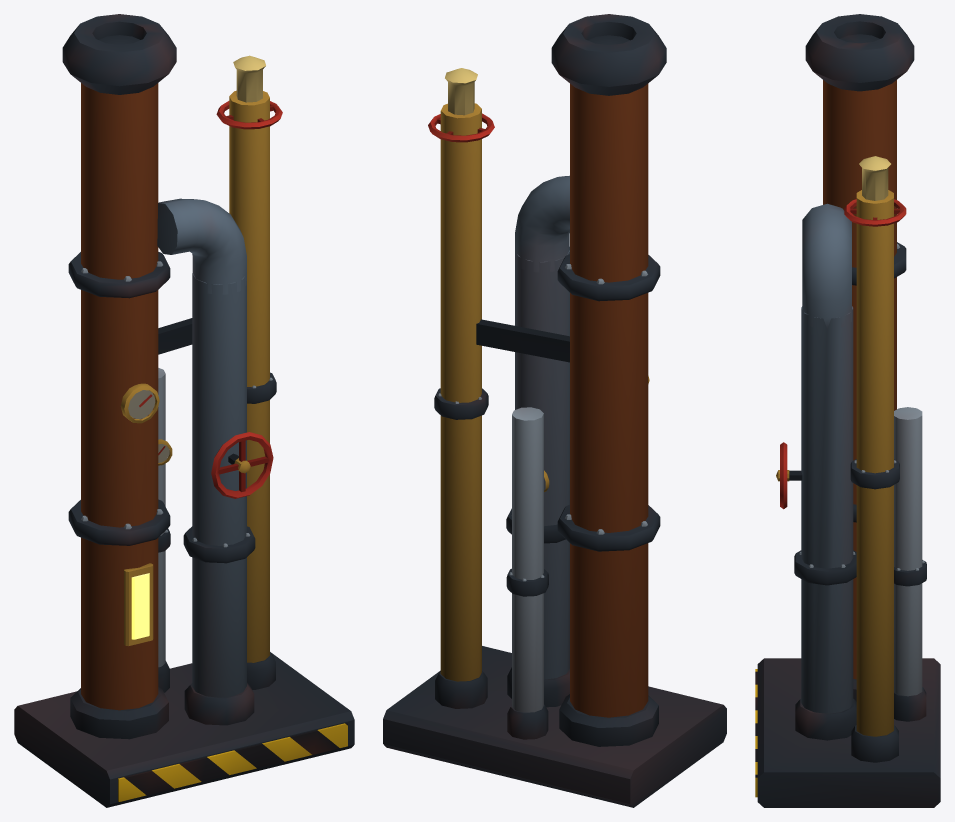
File: pipe_stack.glb
3 views of the same model, side by side, from view 1: azimuth 30°, elevation 25°; view 2: azimuth 150°, elevation 25°; view 3: azimuth 270°, elevation 25° (orthographic). The views are drawn at different scales.
Visible parts, largest first — view 1: pipe_stack; view 2: pipe_stack; view 3: pipe_stack.
Boxes of the visible parts, <box> form: pipe_stack: <box>14,14,354,807</box>; pipe_stack: <box>383,14,726,807</box>; pipe_stack: <box>755,14,940,807</box>.
Size of the model in its own units: 1.24 by 3.5 by 0.85.
